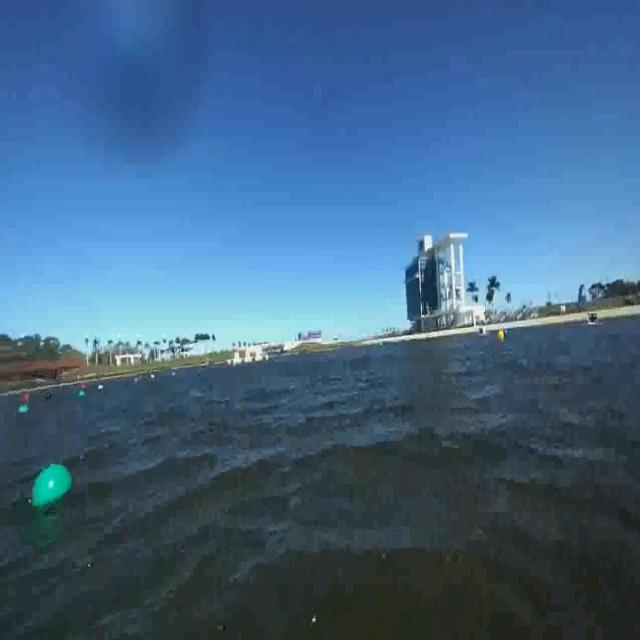green-buoy: (34, 465, 74, 511)
yellow-buoy: (498, 328, 505, 340)
